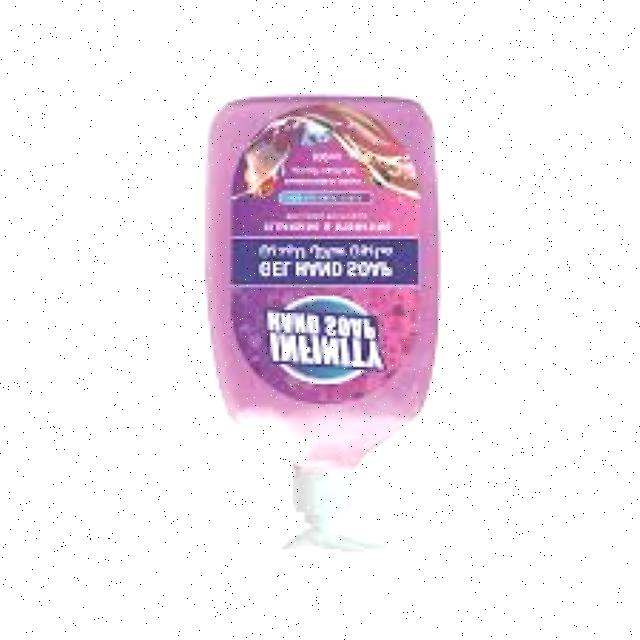liquid soap: (201, 95, 441, 563)
